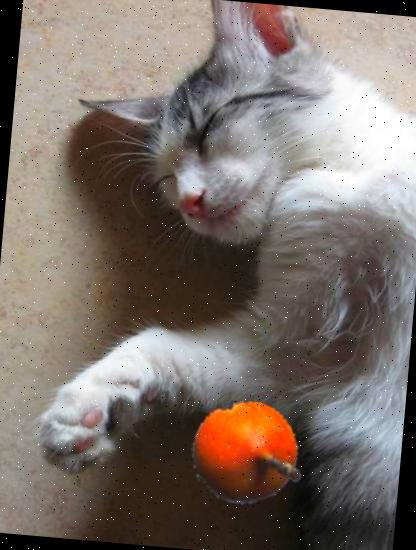Granadilla: (187, 394, 305, 512)
